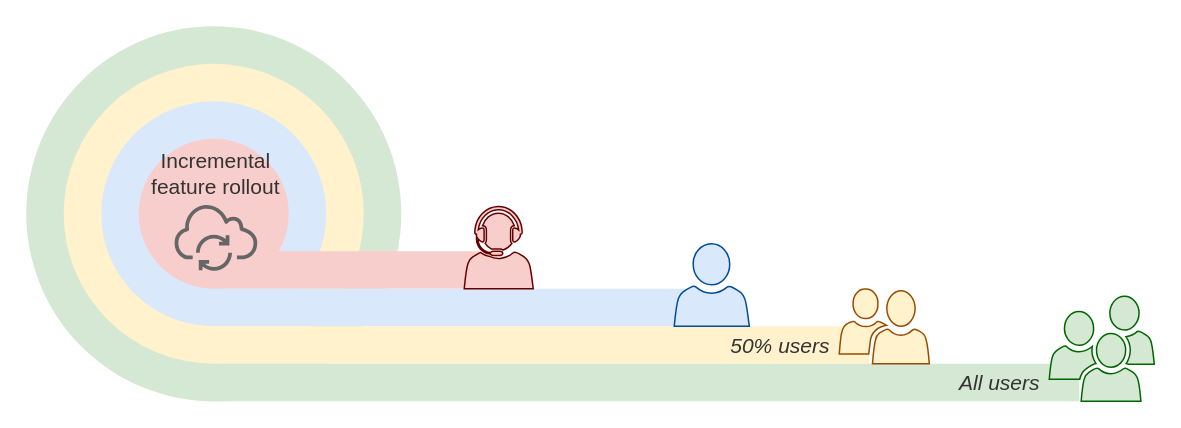
Image size: 1181x428. Some labels were removed from this diagram. The centre of each missing label's shape, as x and y in pixels:
10% users: the point at 450,307
Test group: the point at 345,269
